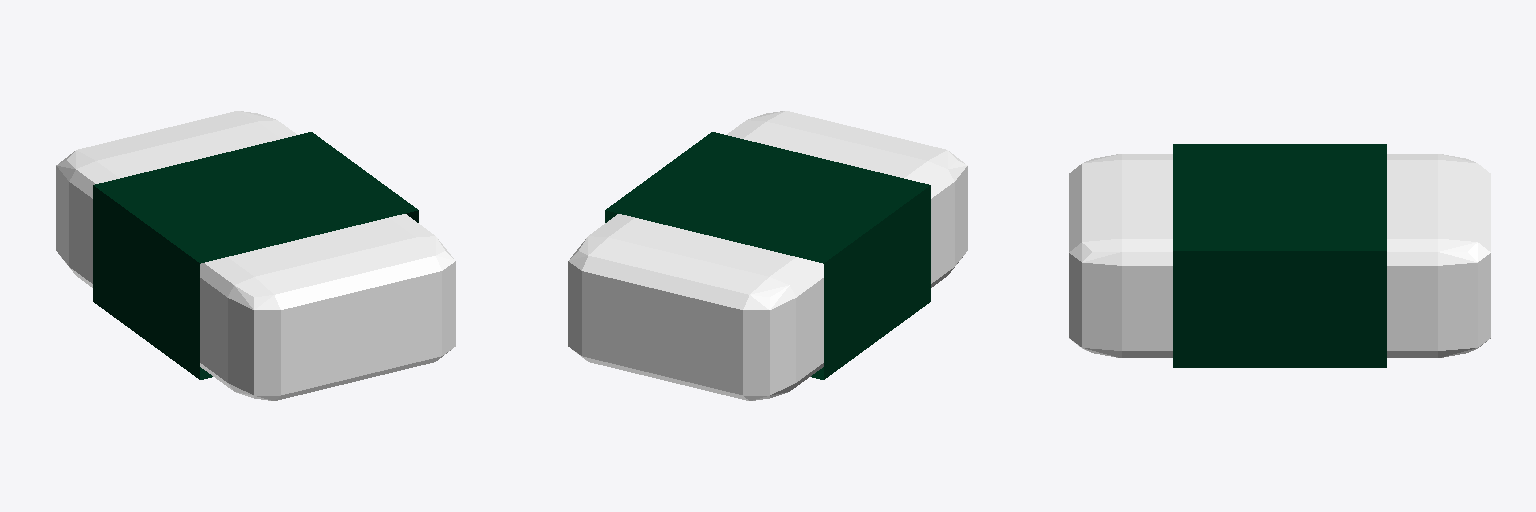
File: borracha.obj
The picture shows the model from 3 angles: view 1: azimuth 30°, elevation 25°; view 2: azimuth 150°, elevation 25°; view 3: azimuth 270°, elevation 25°; orthographic projection.
Visible parts, largest first — view 1: Cube_None, Cube; view 2: Cube_None, Cube; view 3: Cube, Cube_None.
Part boxes in pixels (bbox=[...]): Cube_None: bbox=[56, 111, 455, 400]; Cube: bbox=[93, 132, 418, 379]; Cube_None: bbox=[568, 111, 967, 400]; Cube: bbox=[605, 132, 930, 379]; Cube: bbox=[1173, 144, 1386, 367]; Cube_None: bbox=[1069, 154, 1490, 357].
Bounding box in the file's own units: 3.53 × 1.8 × 5.9.